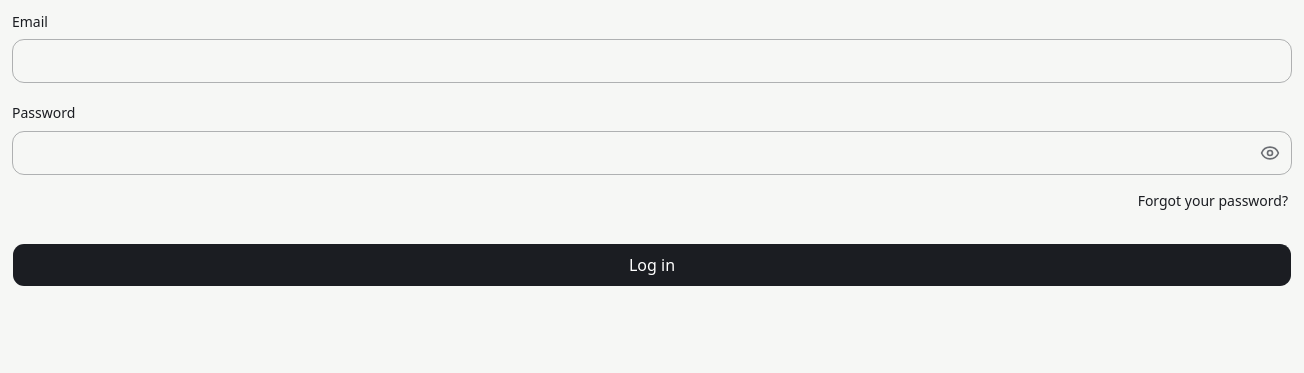
LoginForm › sends once and shows the API's too-many-attempts message with a reset link
This screenshot has width=1304, height=373.
In the field labelled "Email": x=652, y=61 [12,39,1292,83], type "thandi@example.test"
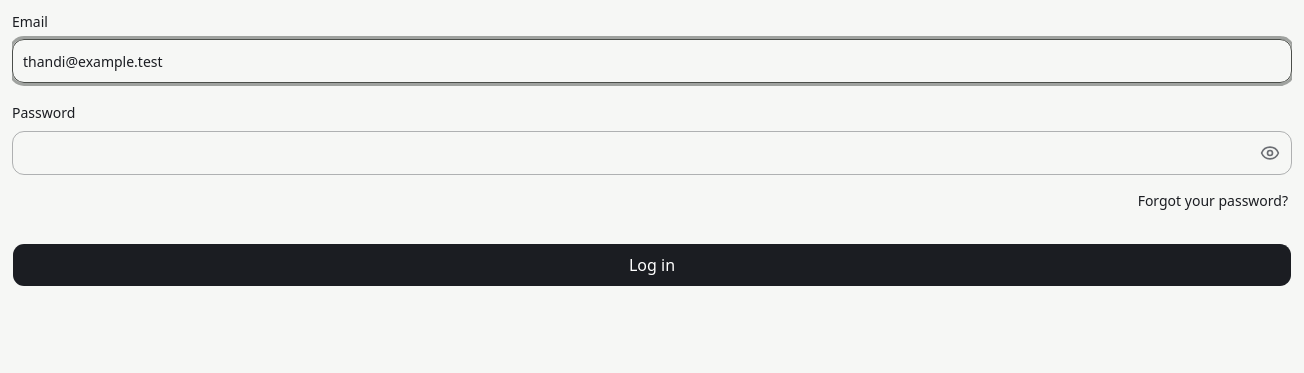
In the password field labelled "Password": x=652, y=152 [12,130,1292,174], type "correct horse"
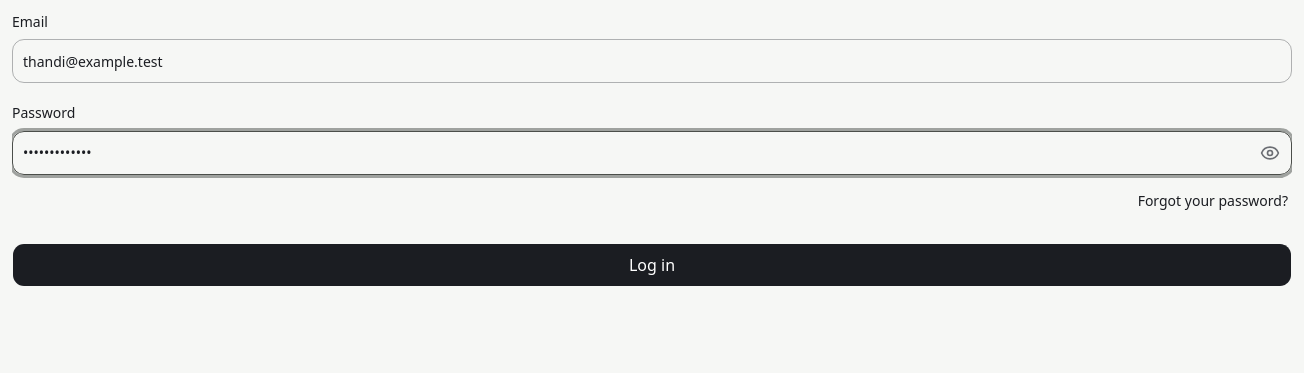
Click the button "Log in": x=652, y=264 [12,242,1292,286]
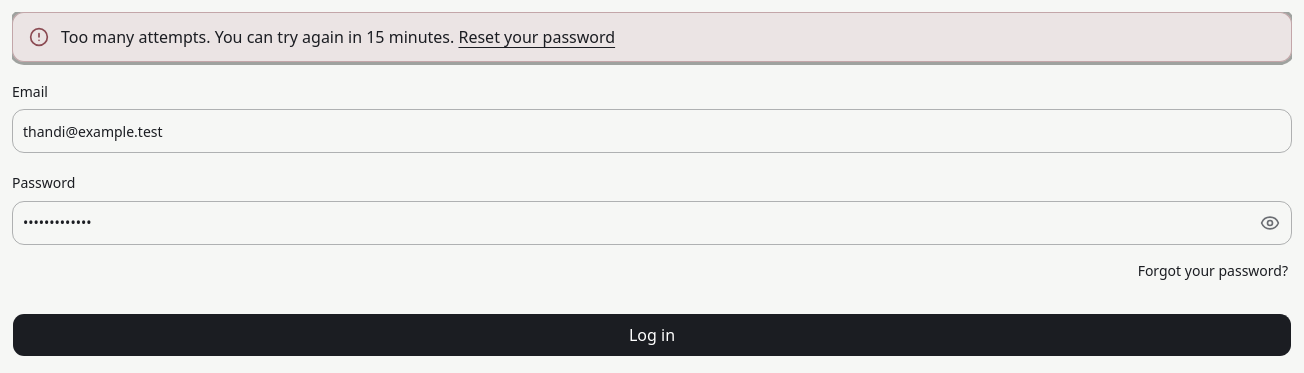
Expected: the message shows "Too many attempts. You can try again in 15 minutes.", [61,26,454,48]
